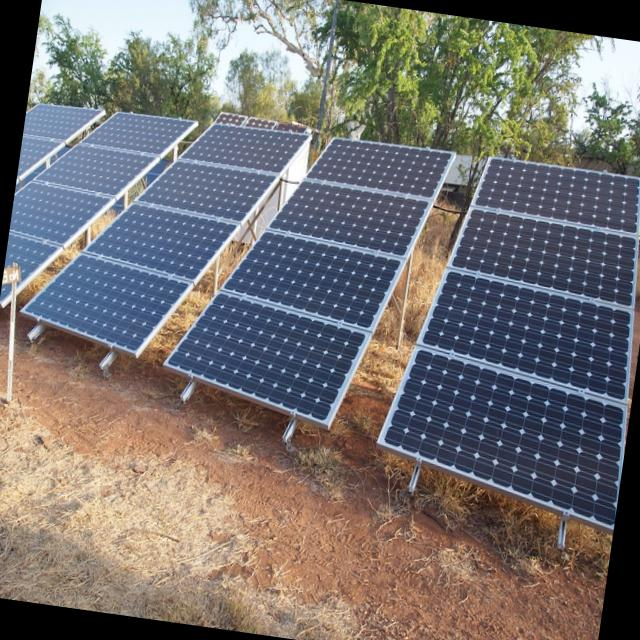no faulty: (382, 161, 640, 521), (171, 141, 448, 415), (26, 125, 305, 339)
